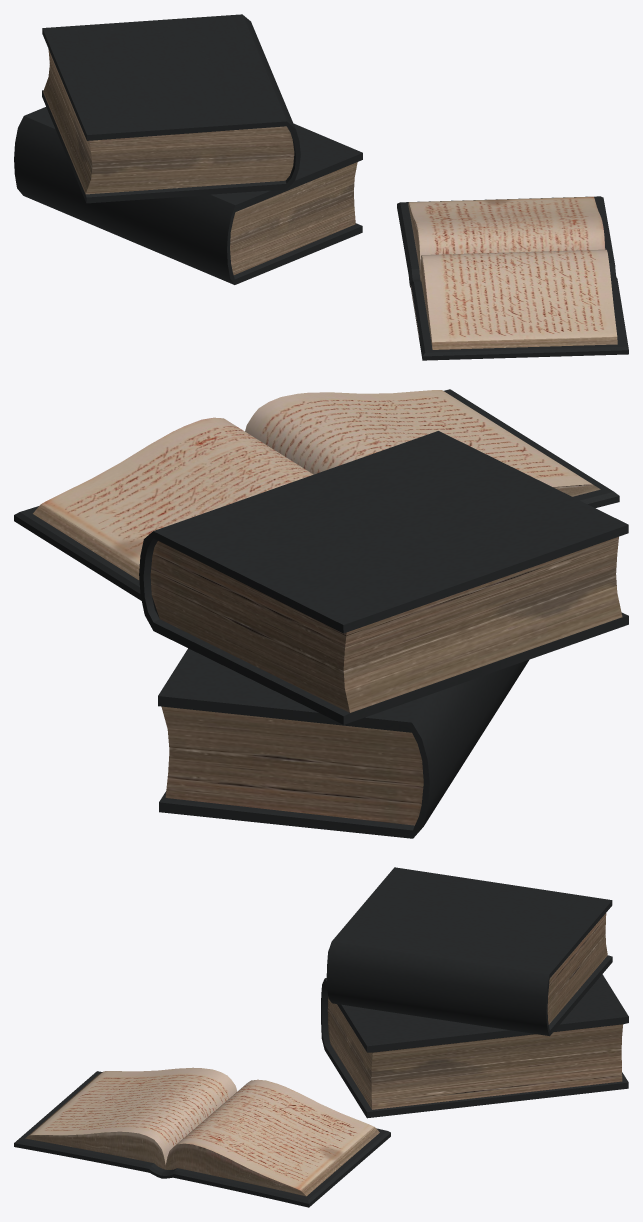
Rendered from Book.fbx.
3 renders of one model, top to bottom at view 1: azimuth 30°, elevation 25°; view 2: azimuth 150°, elevation 25°; view 3: azimuth 270°, elevation 25°, orthographic. The views are drawn at different scales.
Visible parts, largest first — view 1: Book; view 2: Book; view 3: Book.
Part boxes in pixels (x1,y1,x2,y2): Book: (14, 14, 628, 360); Book: (14, 389, 628, 838); Book: (14, 867, 628, 1207).
Bounding box in the file's own units: 112 × 34.2 × 140.
